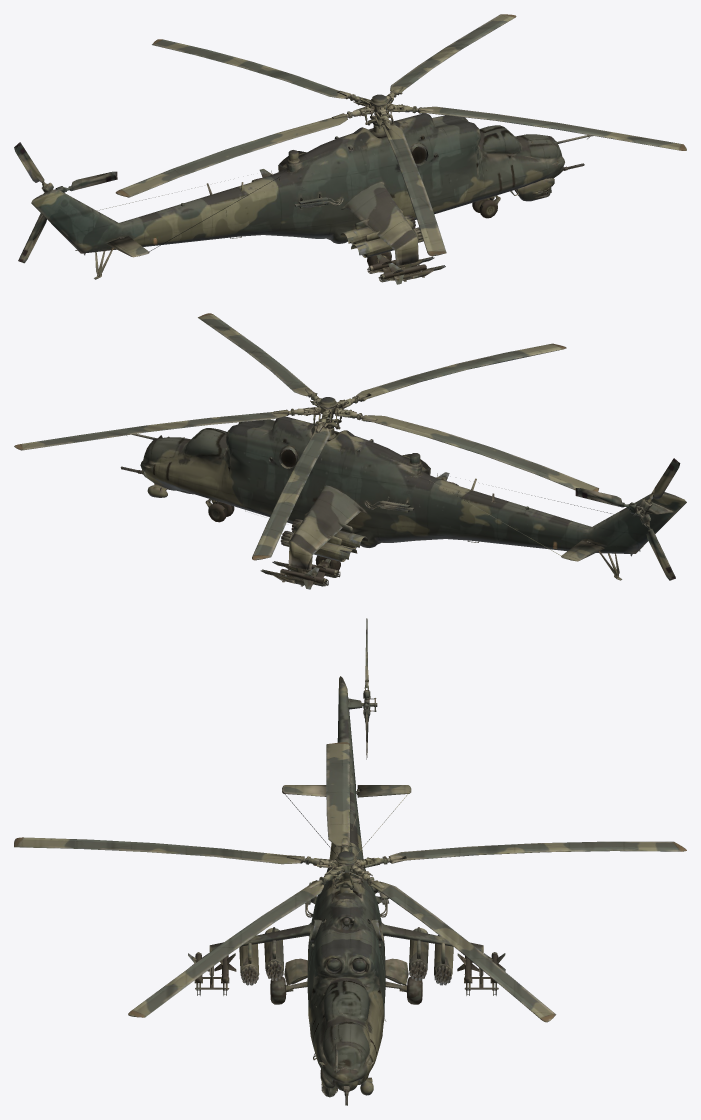
Rendered from fh_battle_e_helicopter.glb.
3 renders of one model, top to bottom at view 1: azimuth 30°, elevation 25°; view 2: azimuth 150°, elevation 25°; view 3: azimuth 270°, elevation 25°, orthographic. The views are drawn at different scales.
Visible parts, largest first — view 1: helicopter, rotor, tail_rotor; view 2: helicopter, rotor, tail_rotor; view 3: helicopter, rotor.
Part boxes in pixels (x1,y1,x2,y2): helicopter: (31, 113, 592, 284); rotor: (115, 14, 686, 256); tail_rotor: (14, 142, 117, 263); helicopter: (120, 416, 686, 589); rotor: (14, 313, 598, 560); tail_rotor: (575, 458, 680, 580); helicopter: (188, 676, 505, 1105); rotor: (14, 742, 686, 1022).
Size of the model in its own units: 1.02 by 0.299 by 0.8884.
1 material, 1 textured.
